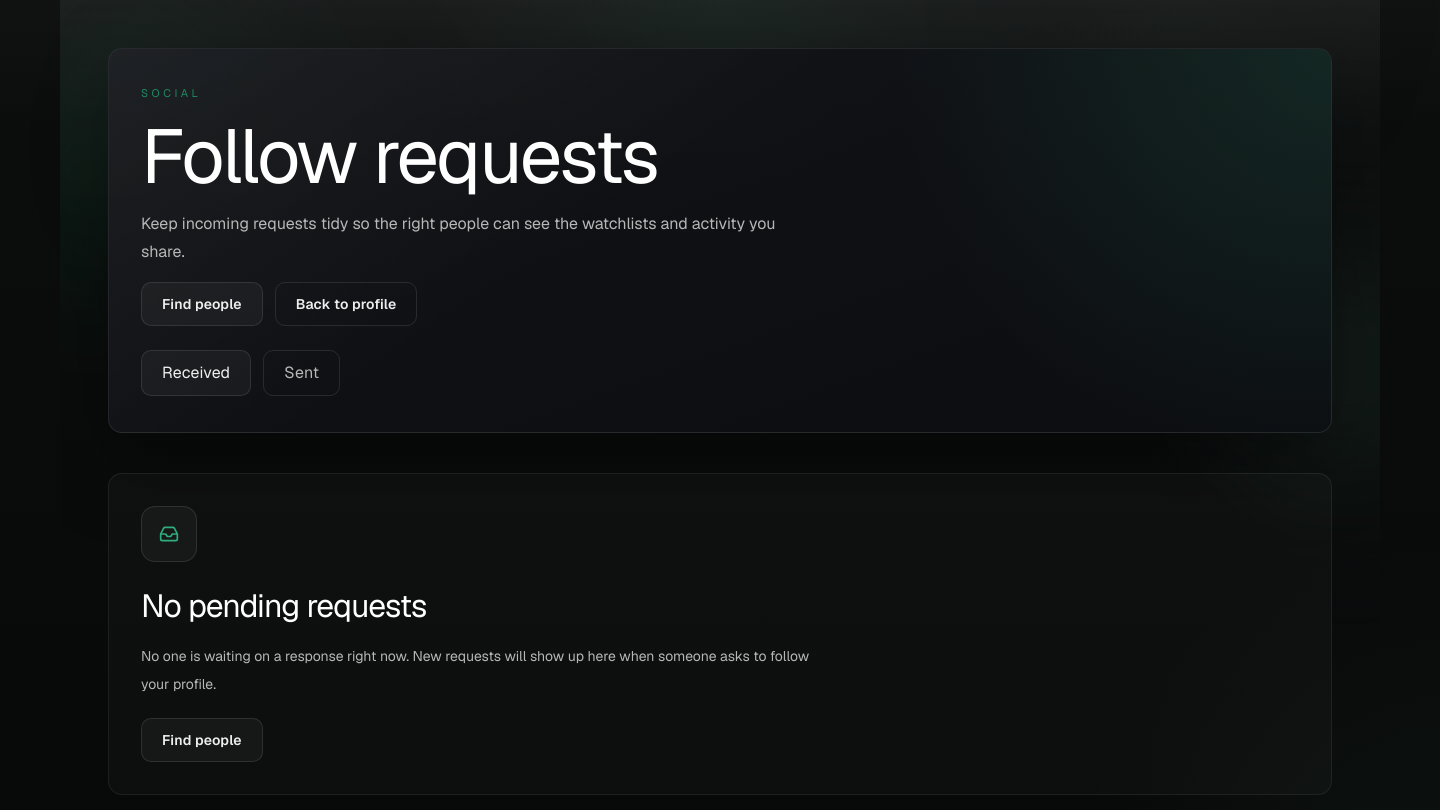
Scenario: FollowRequestsPage › renders sent requests and lets the user cancel one
Click the button "Sent": (302, 372) [263,350,340,396]
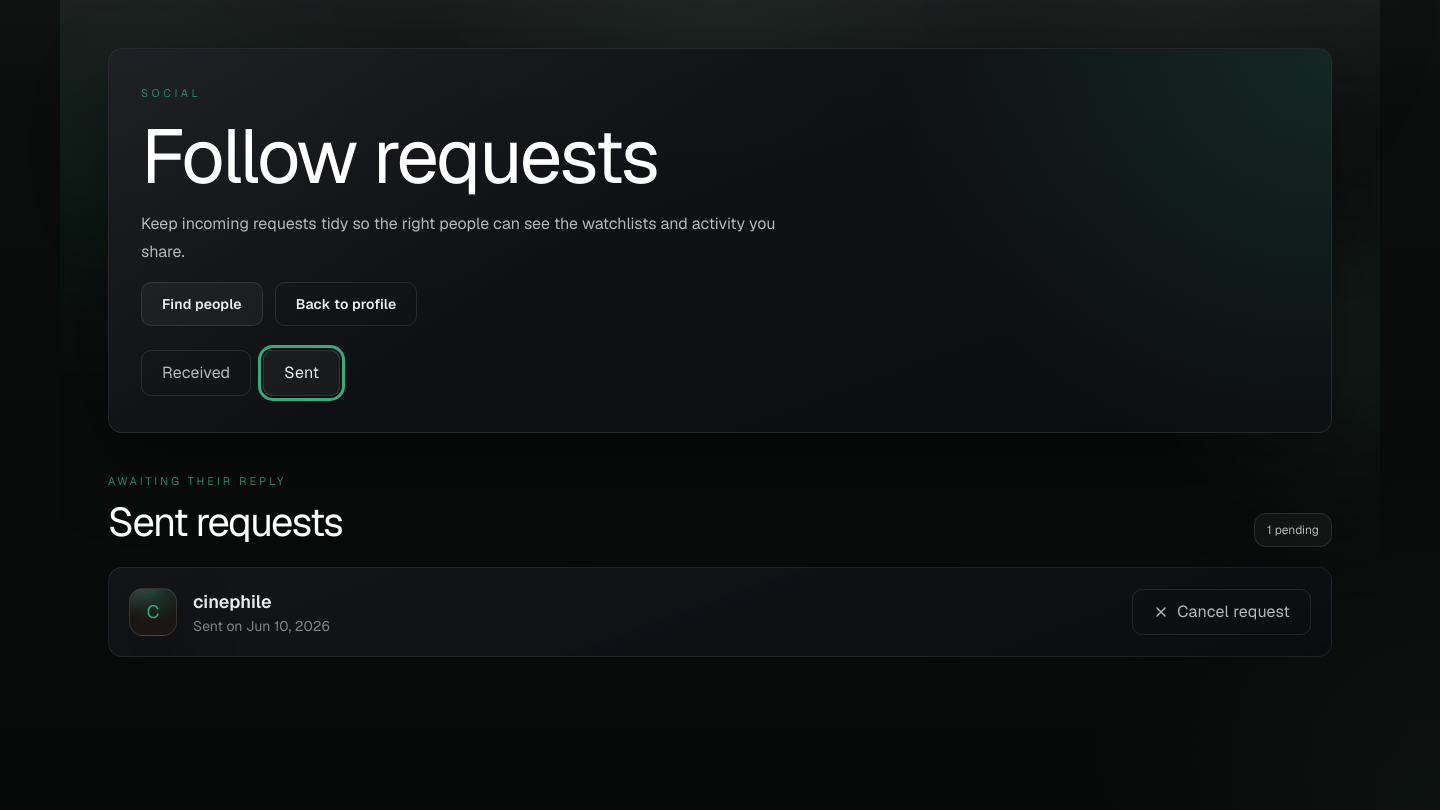
Check: the link "cinephile" is shown, box [193,590,272,613]
Click the button "Cancel request": (1222, 612) [1132,589,1311,635]
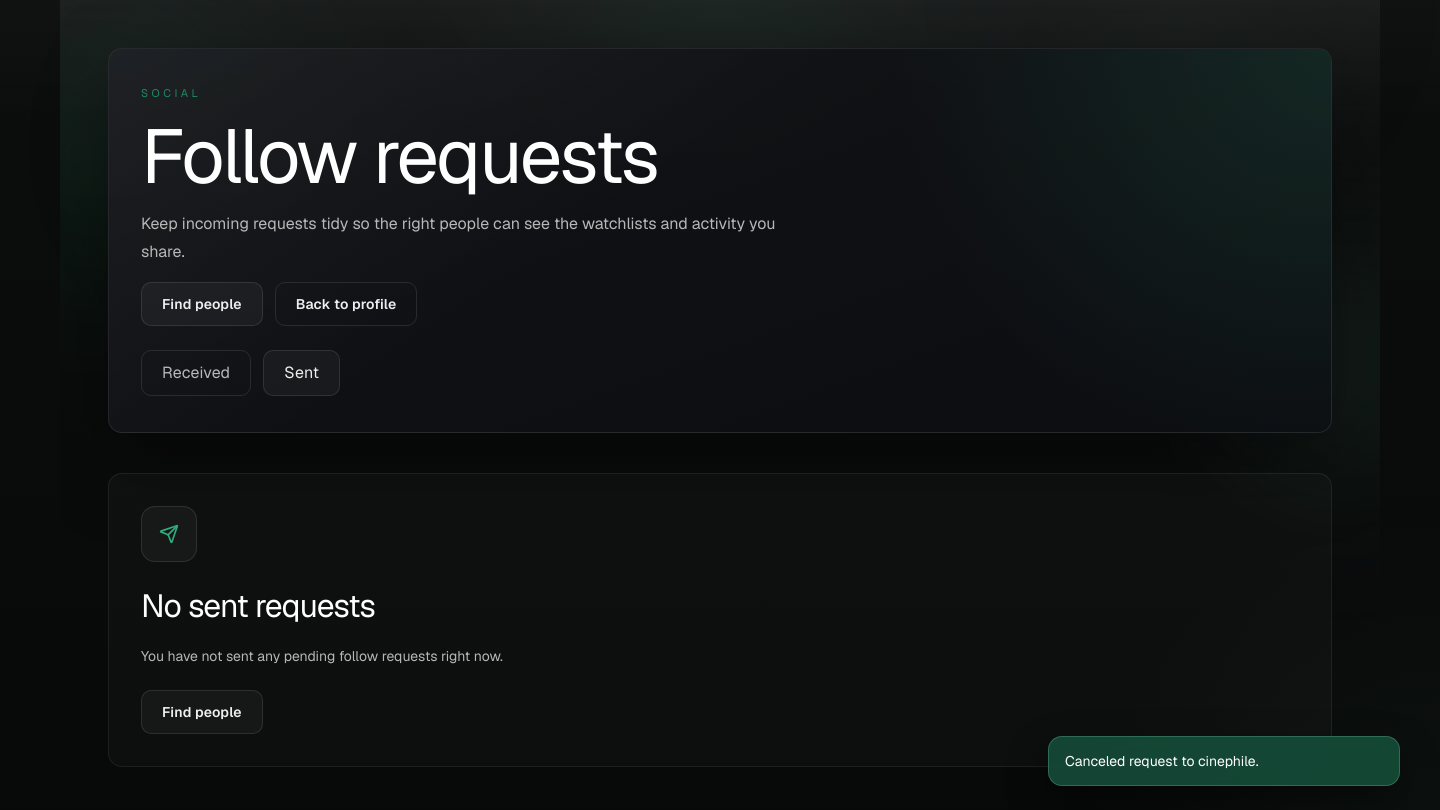
Check: the heading "No sent requests" is shown, box [141,584,375,626]
